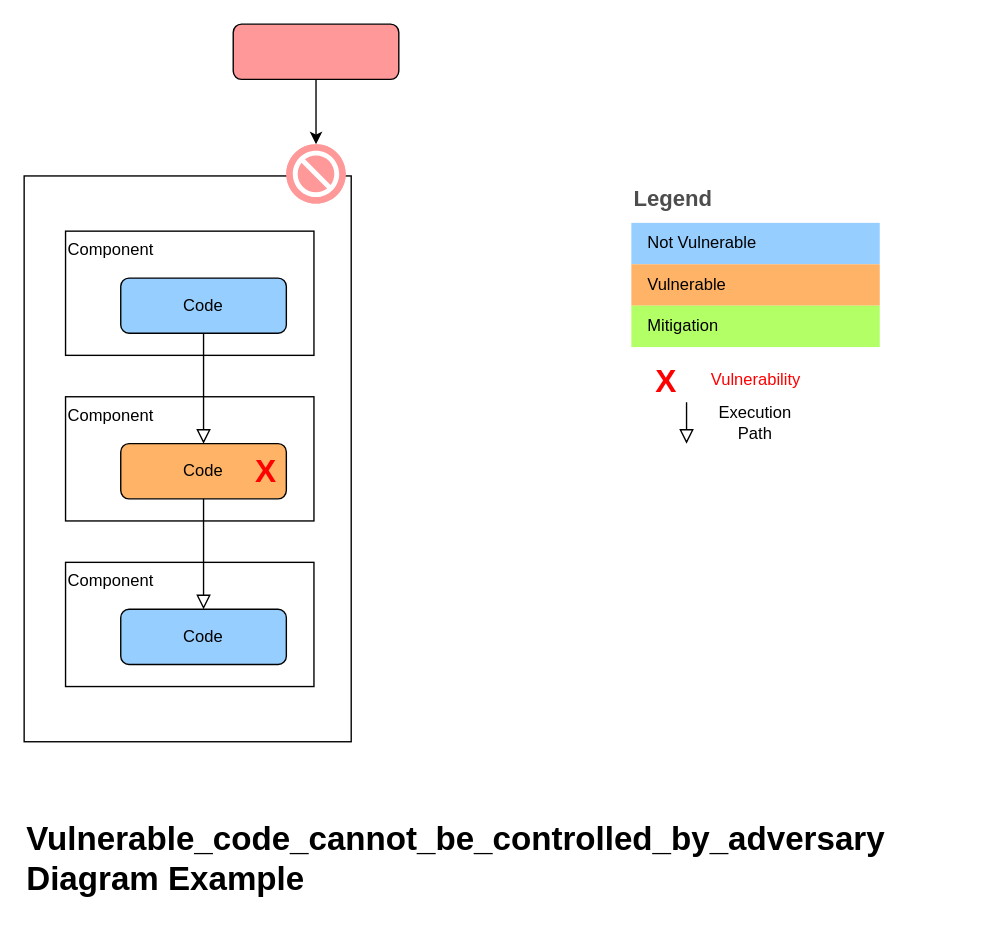
This 1001x932 diagram has some shape labels left out. Each missing label, with the box of its shape:
Adversary: (232, 23, 399, 79)
Software Product: (23, 175, 351, 742)
